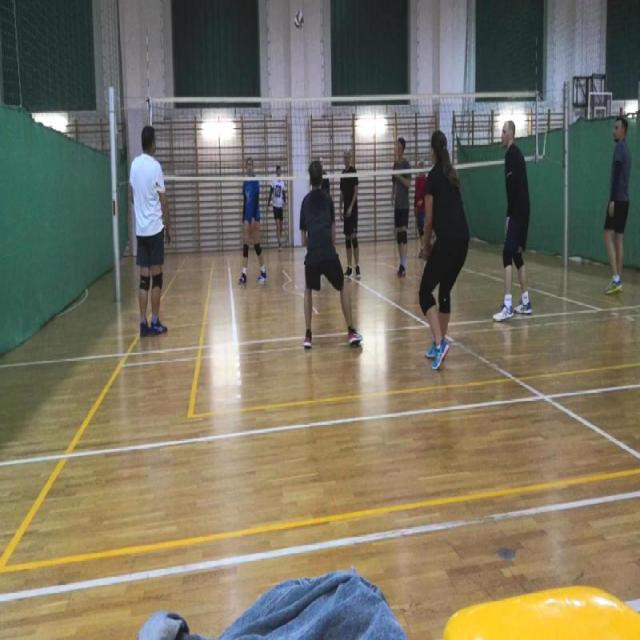volleyball: (293, 11, 304, 28)
